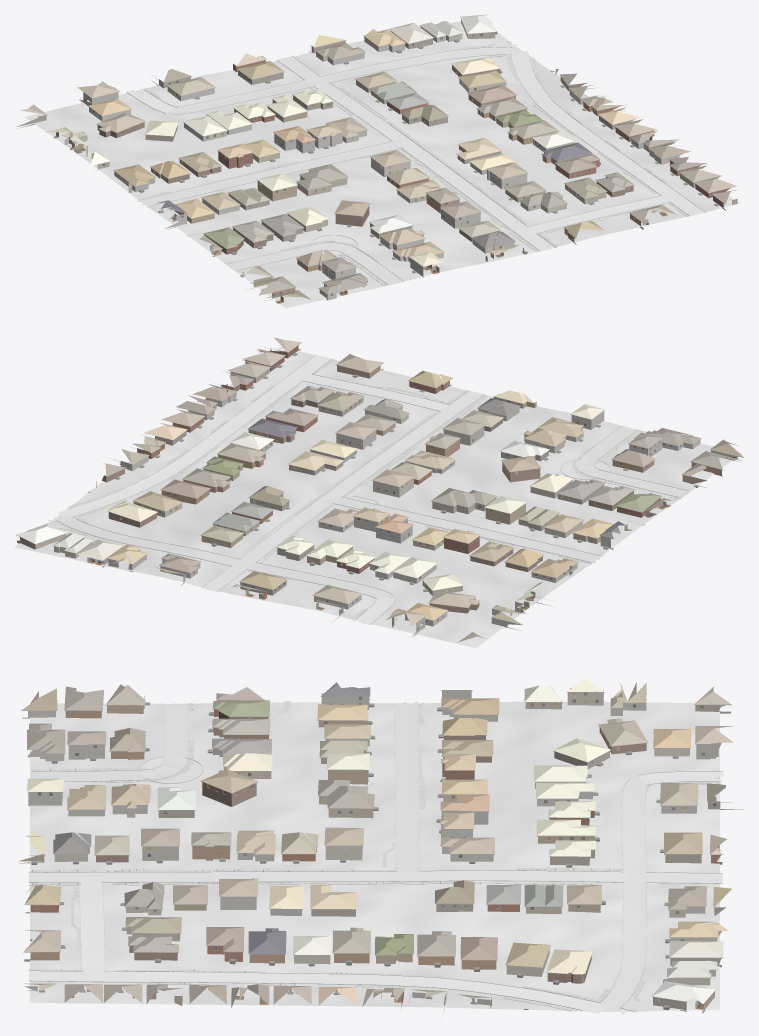
3 views of the same model, one above another, from view 1: azimuth 30°, elevation 25°; view 2: azimuth 150°, elevation 25°; view 3: azimuth 270°, elevation 25° (orthographic). The views are drawn at different scales.
Visible parts, largest first — view 1: ground, roof, concrete, wall, detail, wall_stucco, curb, wall_stone, walk, room, glass; view 2: ground, roof, concrete, wall, detail, wall_stucco, curb, wall_stone, walk, glass; view 3: ground, roof, concrete, wall, detail, walk, wall_stucco, curb, wall_stone, glass.
Boxes of the visible parts, x1,y1,x2,y2 form: ground: (25, 21, 739, 308); roof: (20, 14, 738, 299); concrete: (127, 44, 704, 284); wall: (16, 19, 730, 300); detail: (27, 20, 724, 299); wall_stucco: (79, 27, 678, 300); curb: (126, 41, 705, 284); wall_stone: (64, 37, 683, 279); walk: (137, 40, 688, 285); room: (53, 79, 737, 303); glass: (85, 33, 676, 296); ground: (14, 346, 742, 648); roof: (16, 337, 744, 642); concrete: (47, 355, 688, 624); wall: (17, 345, 722, 621); detail: (16, 342, 734, 637); wall_stucco: (54, 404, 700, 637); curb: (49, 354, 688, 624); wall_stone: (108, 392, 738, 630); walk: (49, 359, 681, 619); glass: (113, 383, 695, 629); ground: (30, 701, 719, 1011); roof: (21, 678, 733, 1007); concrete: (28, 701, 723, 1014); wall: (18, 695, 742, 1013); detail: (21, 690, 731, 1009); walk: (29, 701, 720, 1011); wall_stucco: (28, 689, 721, 985); curb: (28, 703, 723, 1012); wall_stone: (22, 692, 721, 1014); glass: (34, 692, 716, 1004).
Size of the model in its own units: 272 by 15.17 by 265.
